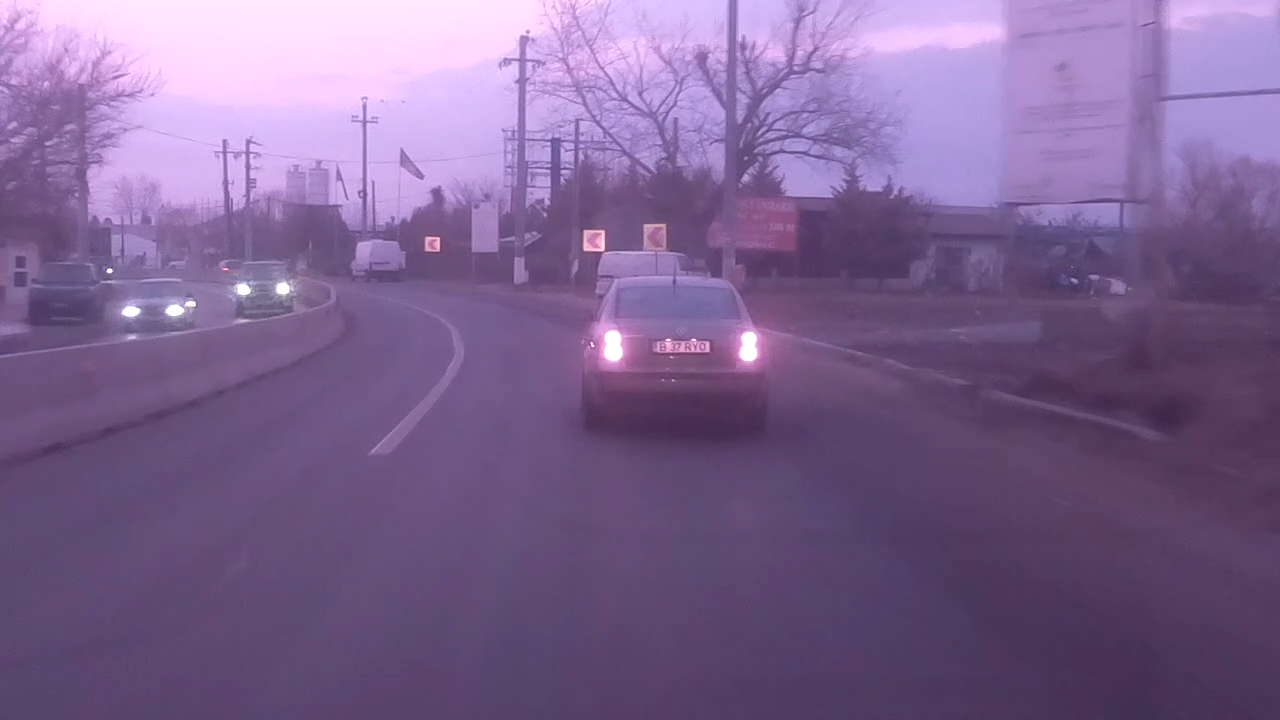license-plate: (649, 337, 714, 355)
